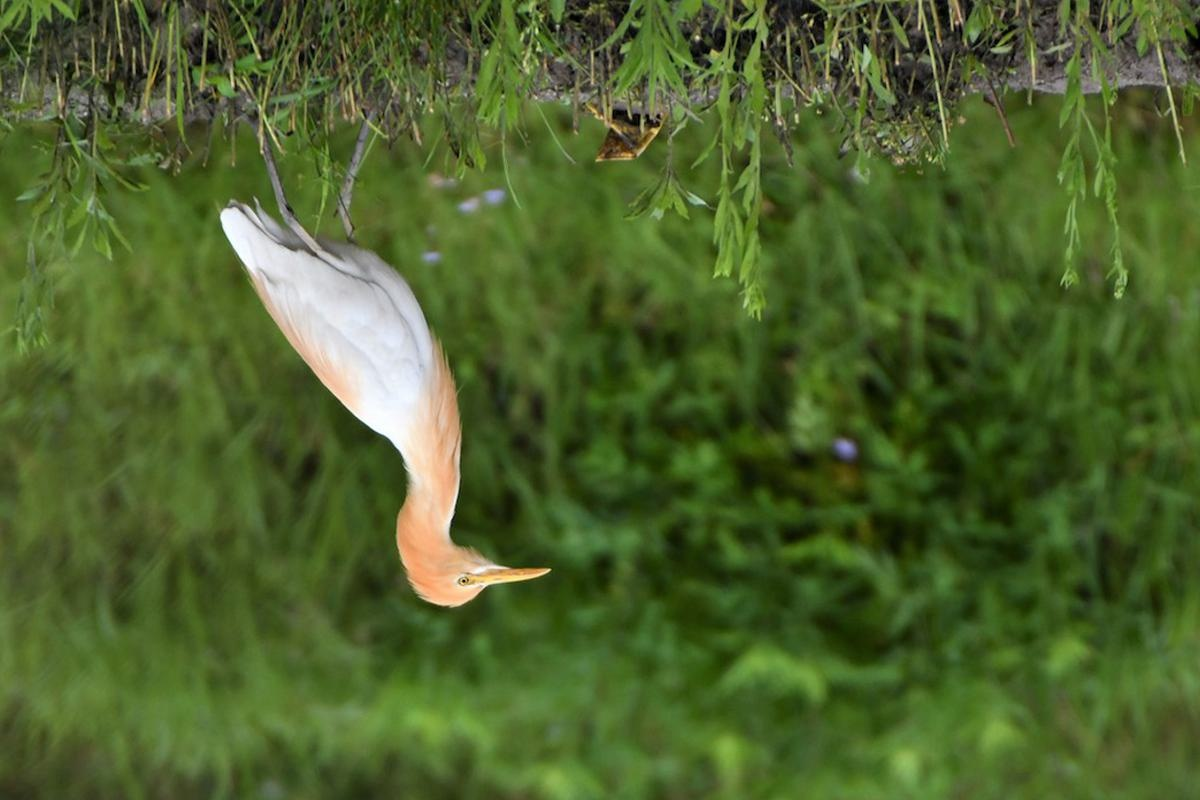egret: (185, 95, 557, 618)
